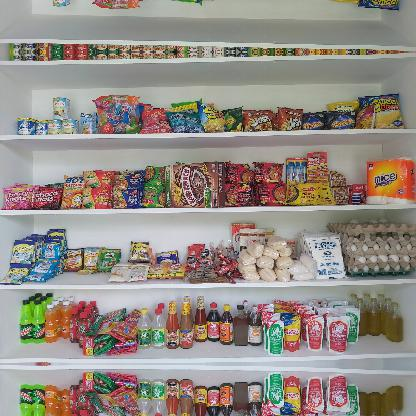Koko-Krunch: (164, 161, 224, 207)
